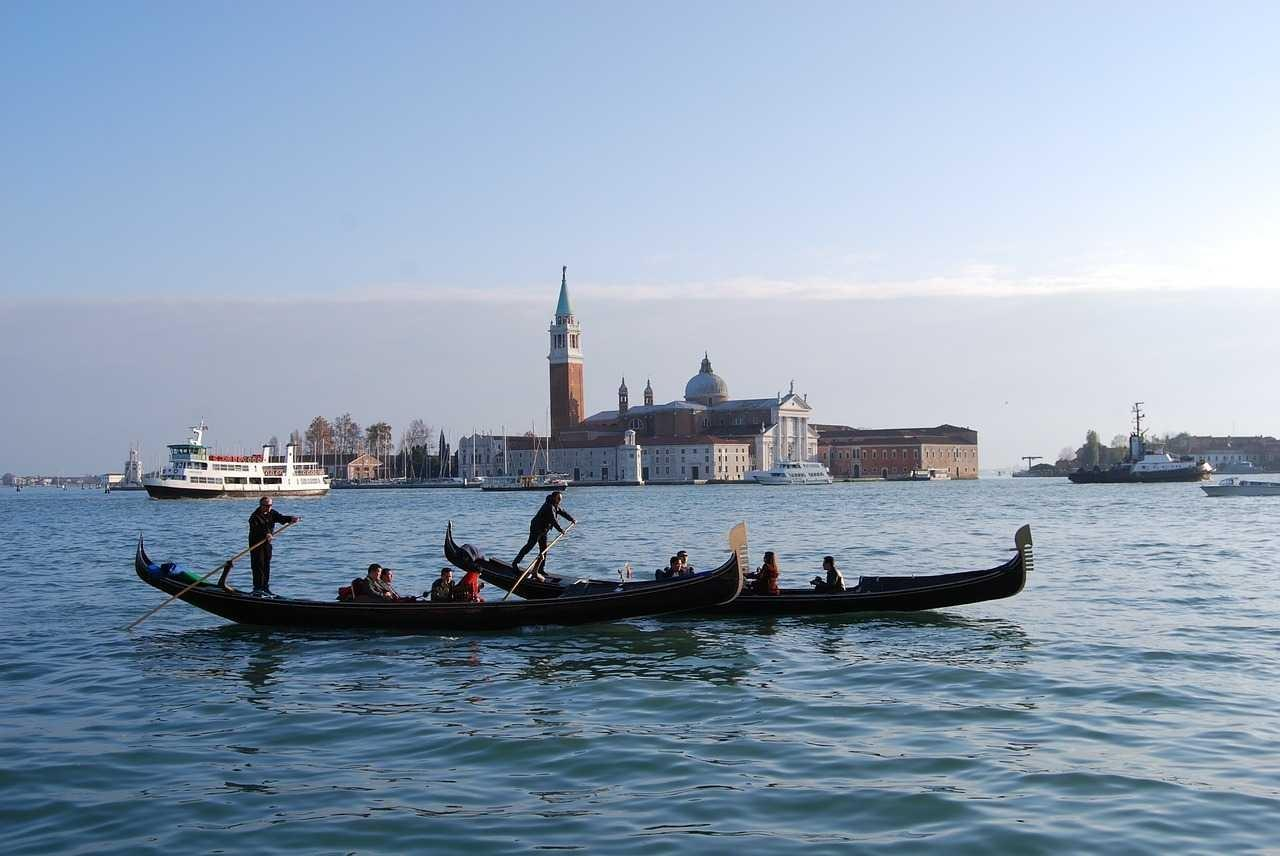kayak: (136, 514, 1036, 631), (141, 418, 332, 500), (1067, 409, 1205, 484), (442, 518, 569, 597), (1066, 450, 1205, 483), (750, 459, 834, 485), (1200, 474, 1280, 498)
